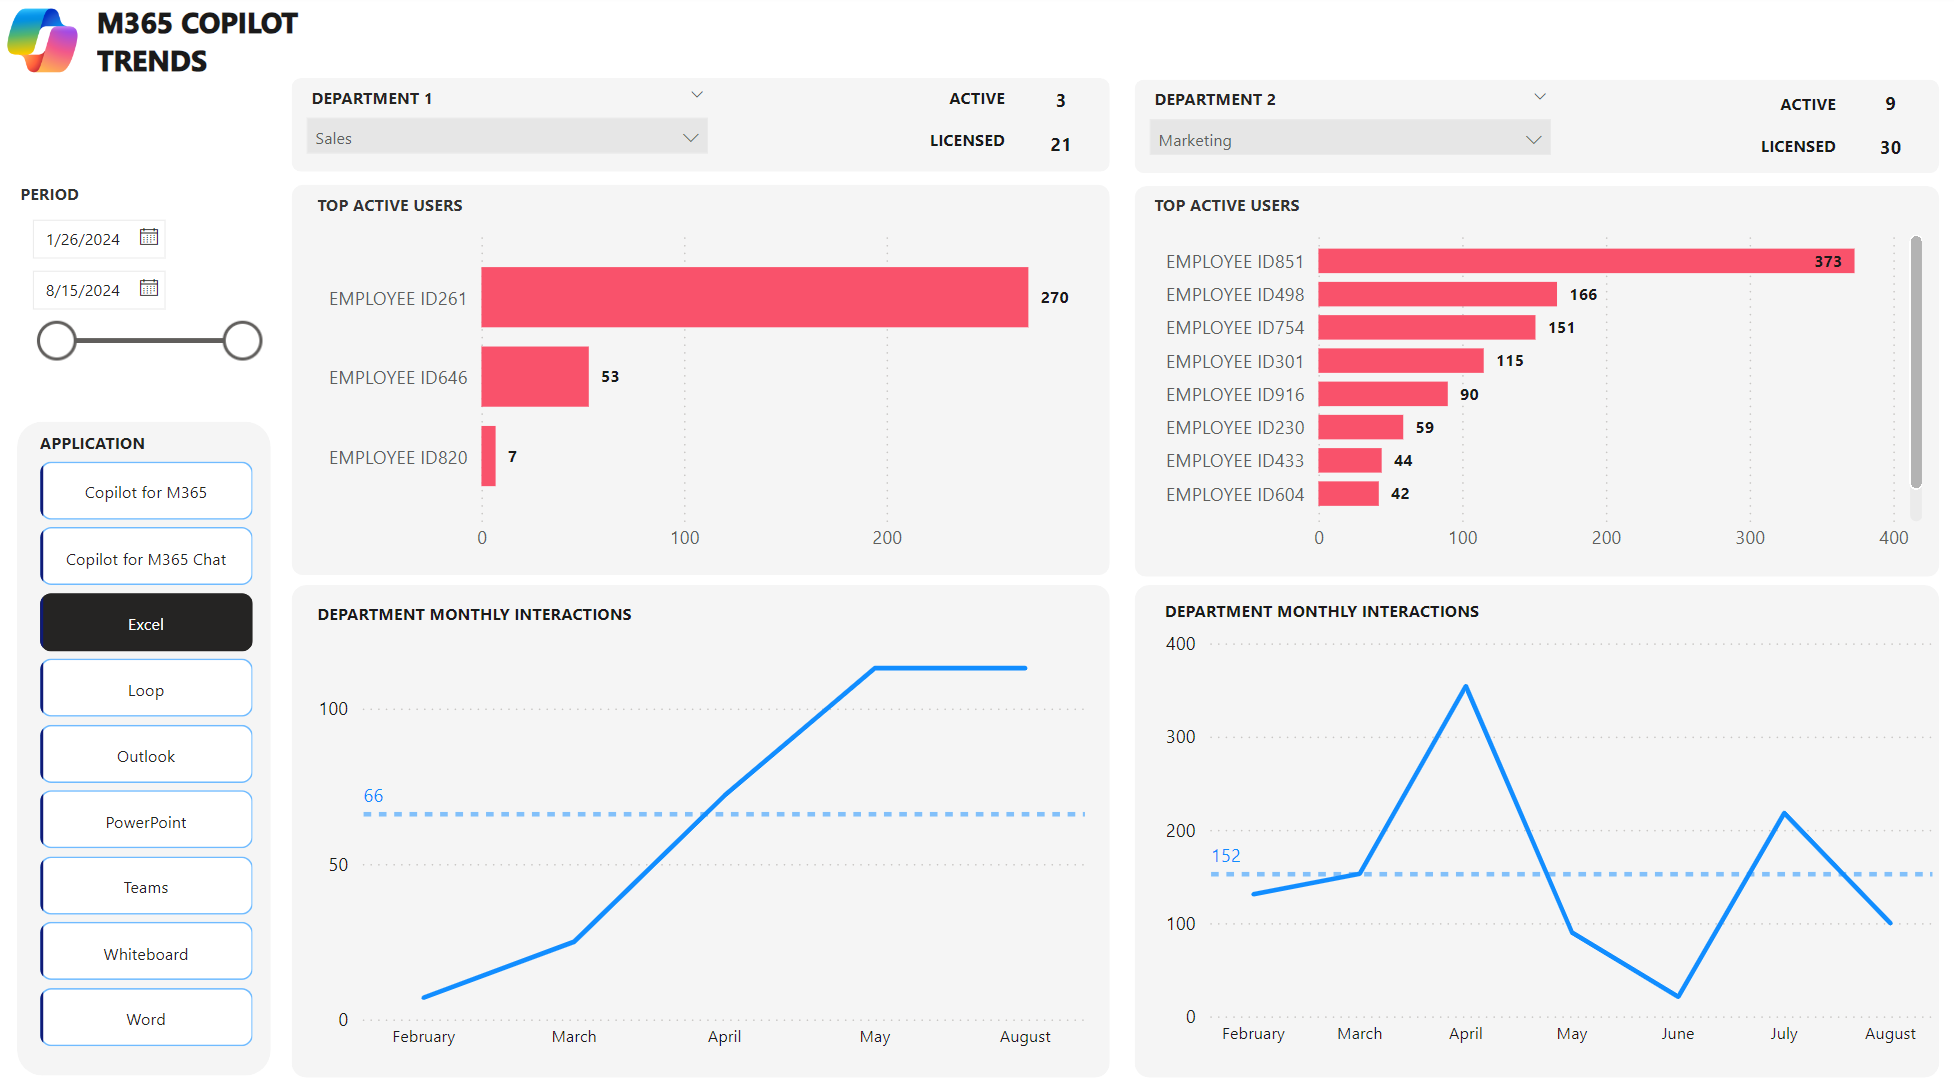

Layout of this report page (visuals, bound fields, positions):
{"tool":"powerbi","page":{"name":"Trends","canvas":[1280,720],"ordinal":7},"visuals":[{"type":"shape","box":[193.3,55,534.7,61.2],"z":0},{"type":"shape","box":[193.3,124.1,534.7,255.4],"z":1000},{"type":"textbox","box":[596.7,54.1,67.4,27],"z":2000},{"type":"textbox","box":[596.7,81.6,67.4,27],"z":3000},{"type":"card","fields":{"Values":["Count(Copilot.User)"]},"box":[665,57.6,60.3,26.6],"z":4000},{"type":"shape","box":[193.3,385.7,534.7,321.9],"z":5000},{"type":"card","fields":{"Values":["Count(Users.UserPrincipalName)"]},"box":[665,86,60.3,26.6],"z":6000},{"type":"slicer","fields":{"Values":["Users.DEPARTMENT"]},"box":[193.3,55,282,63],"z":7000},{"type":"shape","box":[13.8,115.5,166.4,591.3],"z":8000},{"type":"advancedSlicerVisual","fields":{"Values":["Copilot.APPLICATION"]},"box":[8.1,257.9,172.8,448.7],"z":9000},{"type":"shape","box":[743.9,125,525.8,255.4],"z":10000},{"type":"shape","box":[743.9,386.6,525.8,321.9],"z":11000},{"type":"lineChart","title":"DEPARTMENT MONTHLY INTERACTIONS","fields":{"Y":["Copilot.MONTHLY INTERACTIONS"],"Category":["Copilot.TimeStamp.Variation.Date Hierarchy.Year","Copilot.TimeStamp.Variation.Date Hierarchy.Month"]},"box":[751.2,395.4,518.5,300.1],"z":12000},{"type":"shape","box":[743.9,55.9,525.8,61.2],"z":13000},{"type":"slicer","fields":{"Values":["Users.DEPARTMENT"]},"box":[743.9,55.9,282,63],"z":14000},{"type":"textbox","box":[1139.7,57.9,67.4,27],"z":15000},{"type":"textbox","box":[1139.7,85.4,67.4,27],"z":16000},{"type":"card","fields":{"Values":["Count(Copilot.User)"]},"box":[1207.4,60,60.3,26.6],"z":17000},{"type":"card","fields":{"Values":["Count(Users.UserPrincipalName)"]},"box":[1207.4,88.4,60.3,26.6],"z":18000},{"type":"slicer","title":"PERIOD","fields":{"Values":["Copilot.TimeStamp"]},"box":[13.8,118.9,167.2,138.8],"z":19000},{"type":"lineChart","title":"DEPARTMENT MONTHLY INTERACTIONS","fields":{"Y":["Copilot.MONTHLY INTERACTIONS"],"Category":["Copilot.TimeStamp.Variation.Date Hierarchy.Year","Copilot.TimeStamp.Variation.Date Hierarchy.Month"]},"box":[199,395.4,517.7,301.8],"z":20000},{"type":"barChart","title":"TOP ACTIVE USERS INTERACTION TIME IN MINUTES","fields":{"Category":["Users.EMPLOYEE"],"Y":["Sum(Copilot.Approximate interaction time)"]},"box":[199,129.8,517.7,242.8],"z":21000},{"type":"barChart","title":"TOP ACTIVE USERS INTERACTION TIME IN MINUTES","fields":{"Category":["Users.EMPLOYEE"],"Y":["Sum(Copilot.Approximate interaction time)"]},"box":[751.4,129.9,511.6,242.8],"z":22000},{"type":"image","box":[10.8,10.8,39.5,39.5],"z":23000},{"type":"textbox","box":[61.8,21,97.7,22.3],"z":24000},{"type":"textbox","box":[760.5,14.3,509.2,32],"z":25000}]}

Visuals, with their boxes in screenshot pixels (x1, y1, x2, y2), scaled from the page's 1280x720 canvas onto the 1954x1084 screenshot:
shape: bbox=(295, 83, 1111, 175)
shape: bbox=(295, 187, 1111, 571)
textbox: bbox=(911, 81, 1014, 122)
textbox: bbox=(911, 123, 1014, 164)
card - Count(Copilot.User): bbox=(1015, 87, 1107, 127)
shape: bbox=(295, 581, 1111, 1065)
card - Count(Users.UserPrincipalName): bbox=(1015, 129, 1107, 170)
slicer - Users.DEPARTMENT: bbox=(295, 83, 726, 178)
shape: bbox=(21, 174, 275, 1064)
advancedSlicerVisual - Copilot.APPLICATION: bbox=(12, 388, 276, 1064)
shape: bbox=(1136, 188, 1938, 573)
shape: bbox=(1136, 582, 1938, 1067)
"DEPARTMENT MONTHLY INTERACTIONS" lineChart: bbox=(1147, 595, 1938, 1047)
shape: bbox=(1136, 84, 1938, 176)
slicer - Users.DEPARTMENT: bbox=(1136, 84, 1566, 179)
textbox: bbox=(1740, 87, 1843, 128)
textbox: bbox=(1740, 129, 1843, 169)
card - Count(Copilot.User): bbox=(1843, 90, 1935, 130)
card - Count(Users.UserPrincipalName): bbox=(1843, 133, 1935, 173)
"PERIOD" slicer: bbox=(21, 179, 276, 388)
"DEPARTMENT MONTHLY INTERACTIONS" lineChart: bbox=(304, 595, 1094, 1050)
"TOP ACTIVE USERS INTERACTION TIME IN MINUTES" barChart: bbox=(304, 195, 1094, 561)
"TOP ACTIVE USERS INTERACTION TIME IN MINUTES" barChart: bbox=(1147, 196, 1928, 561)
image: bbox=(16, 16, 77, 76)
textbox: bbox=(94, 32, 243, 65)
textbox: bbox=(1161, 22, 1938, 70)
